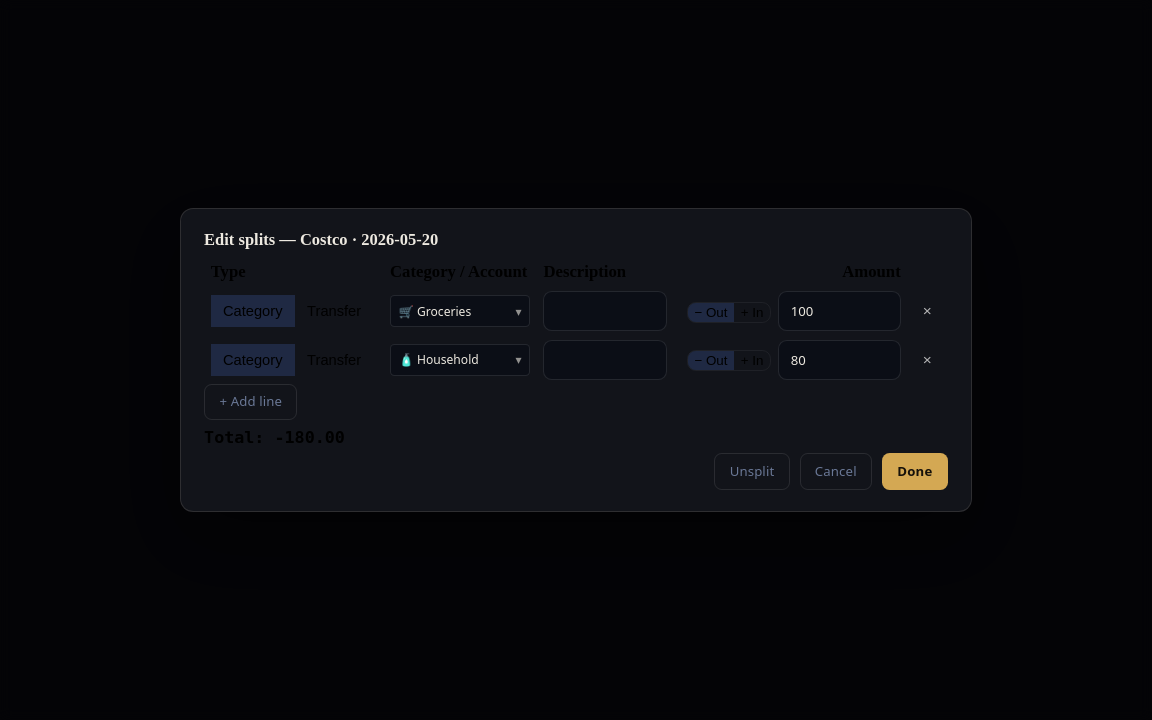
it: SplitsEditor per-line direction › flipping a line to In flips its committed sign (Total reflects it)
Click the button with aria-label "line in".
click(752, 312)  # box [734,302,770,322]
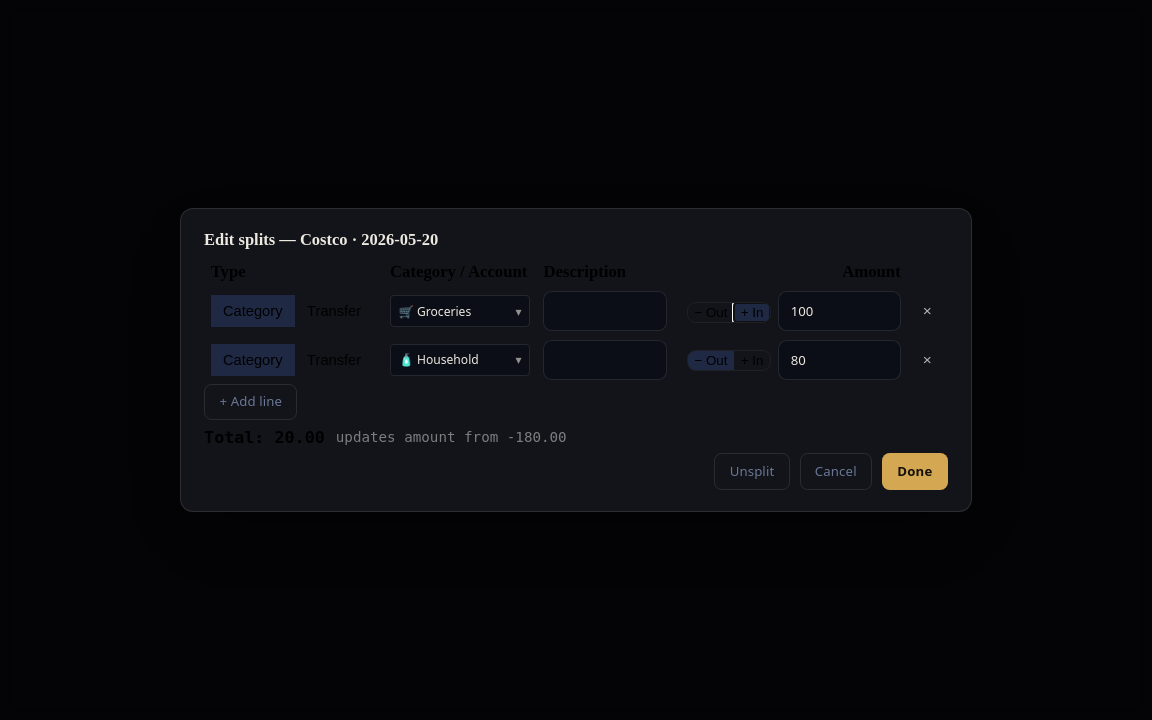
Expected: the text "Total: 20.00" is shown, [204,427,325,447]
